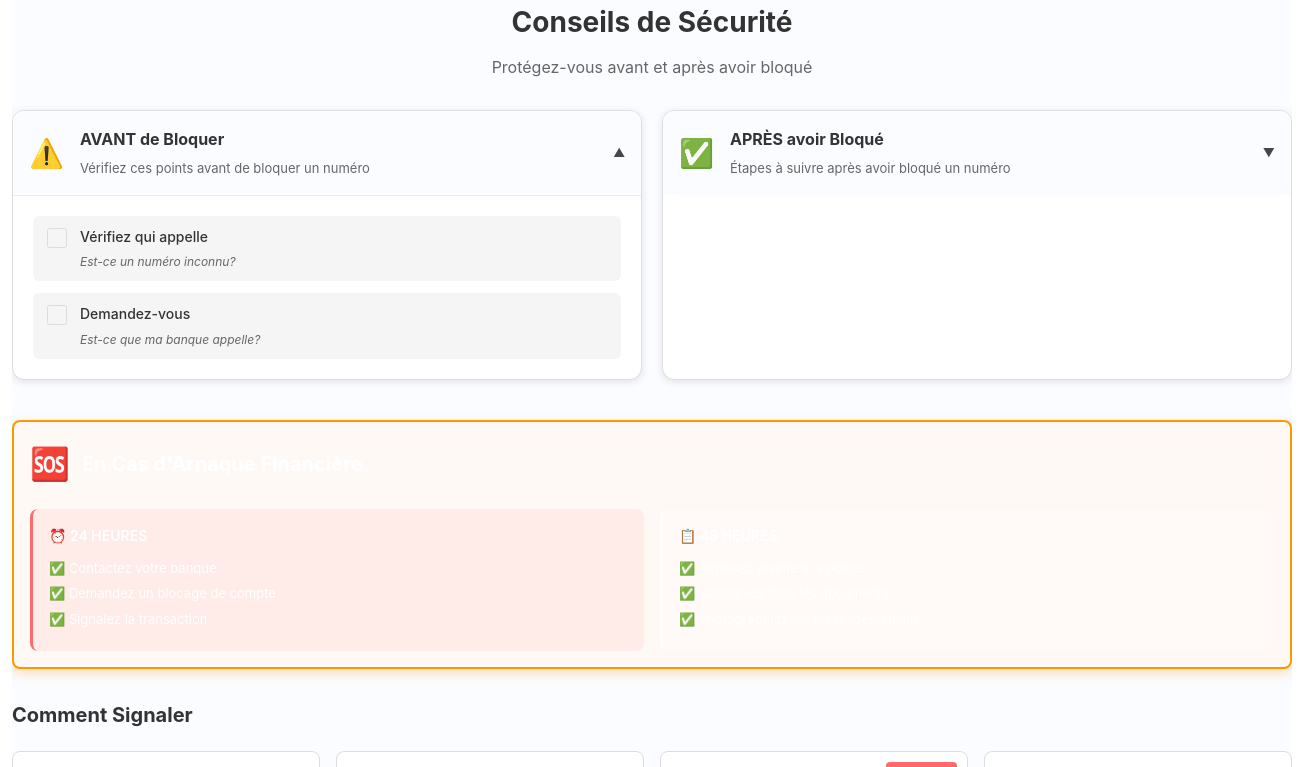
it: SecurityTipsSection Component › After-Block Checklist › should display after-block items when expanded
Step 1. Click the button with class "checklist-header" that starts with "APRÈS avoir Bloqué" → (696, 153), box top-left (663, 111), bottom-right (1291, 195)
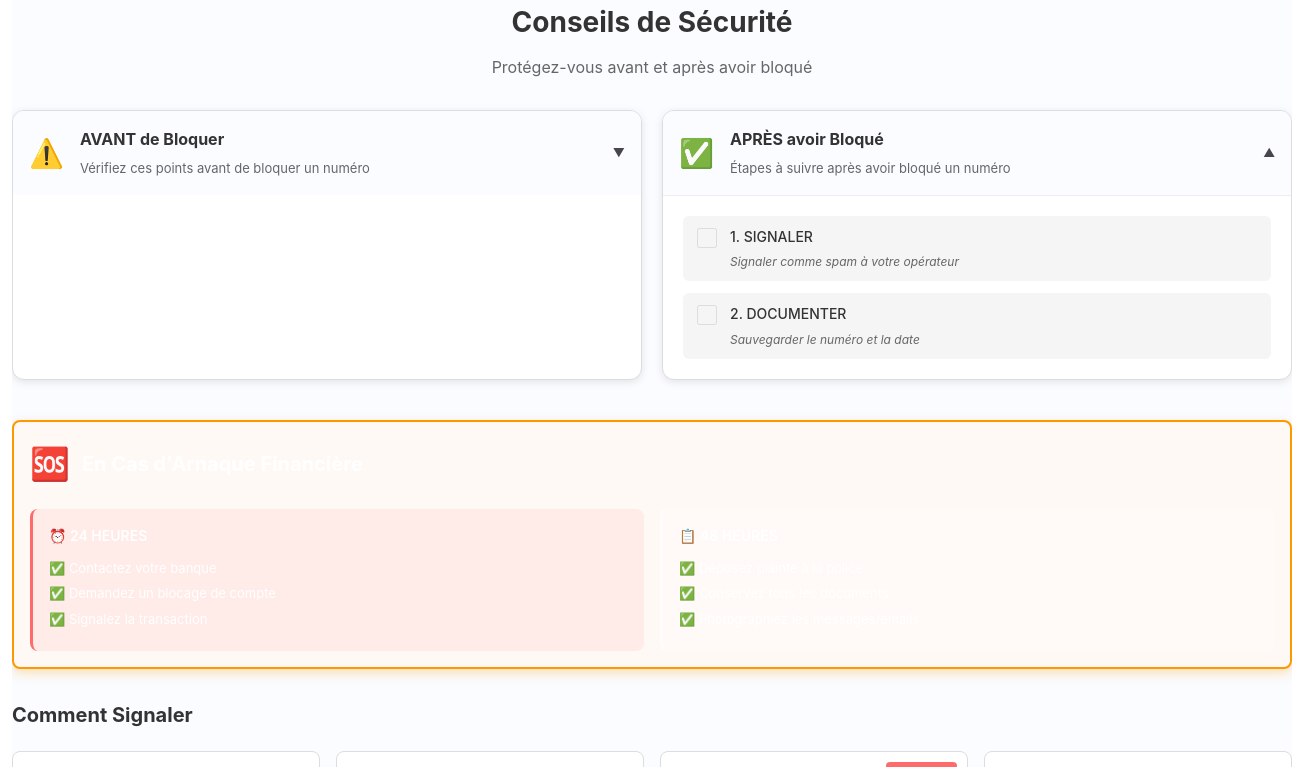
Expected: the text "1. SIGNALER" is shown, top-left (730, 228), bottom-right (813, 245)
Expected: the text "2. DOCUMENTER" is shown, top-left (730, 305), bottom-right (846, 322)
